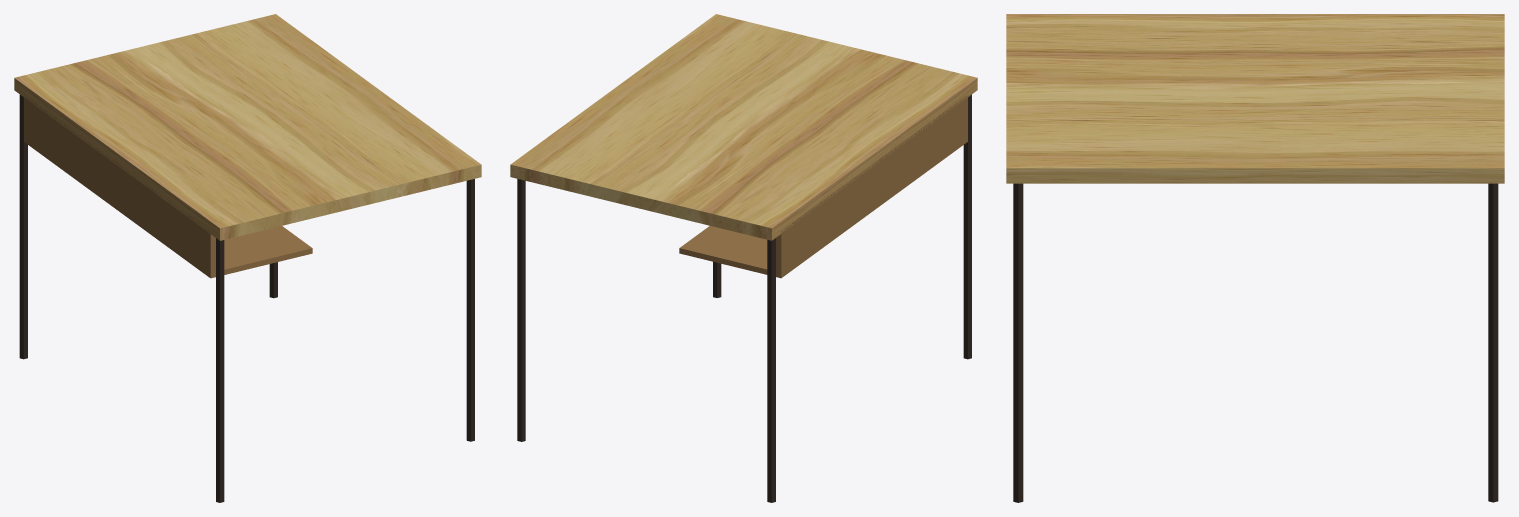
File: desk.fbx
3 renders of one model, left to right at view 1: azimuth 30°, elevation 25°; view 2: azimuth 150°, elevation 25°; view 3: azimuth 270°, elevation 25°, orthographic. The views are drawn at different scales.
Visible parts, largest first — view 1: pCube1, pCube2, pCylinder2, pCylinder3, pCylinder1; view 2: pCube1, pCube2, pCylinder1, pCylinder4, pCylinder2; view 3: pCube1, pCylinder3, pCylinder4.
Part boxes in pixels (<box>): pCube1: <box>14,14,481,240</box>; pCube2: <box>24,95,312,278</box>; pCylinder2: <box>216,238,224,502</box>; pCylinder3: <box>466,179,474,441</box>; pCylinder1: <box>19,94,27,359</box>; pCube1: <box>510,14,977,240</box>; pCube2: <box>679,95,967,278</box>; pCylinder1: <box>767,238,775,502</box>; pCylinder4: <box>517,179,525,441</box>; pCylinder2: <box>963,94,971,359</box>; pCube1: <box>1006,14,1504,183</box>; pCylinder3: <box>1013,183,1023,502</box>; pCylinder4: <box>1488,183,1498,502</box>.
Bounding box in the file's own units: 2.83 × 2.87 × 3.86.
3 materials, 1 textured.
